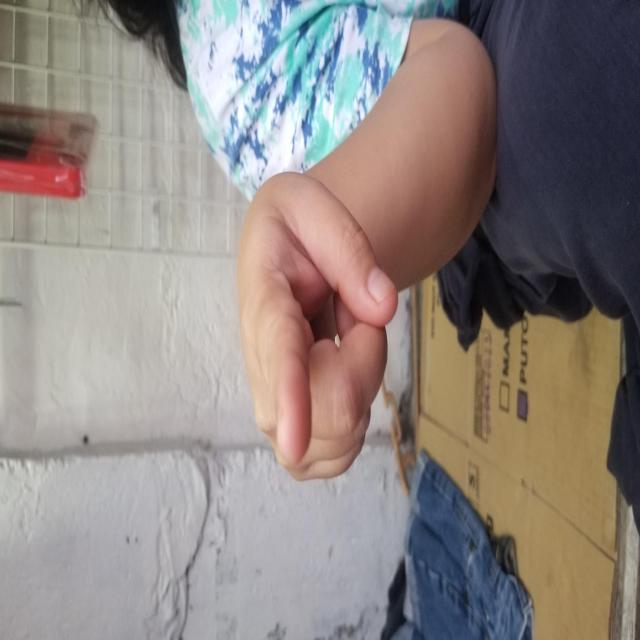Z: (190, 155, 416, 508)
